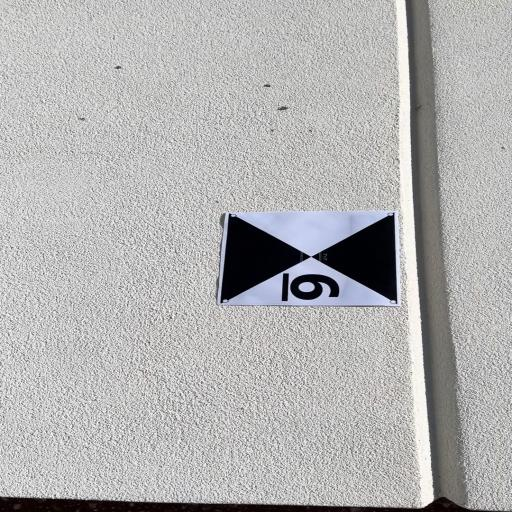target6: (216, 210, 398, 307)
